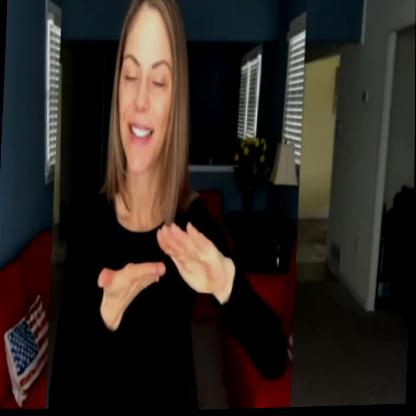NiceToMeetYou: (46, 0, 307, 415)
